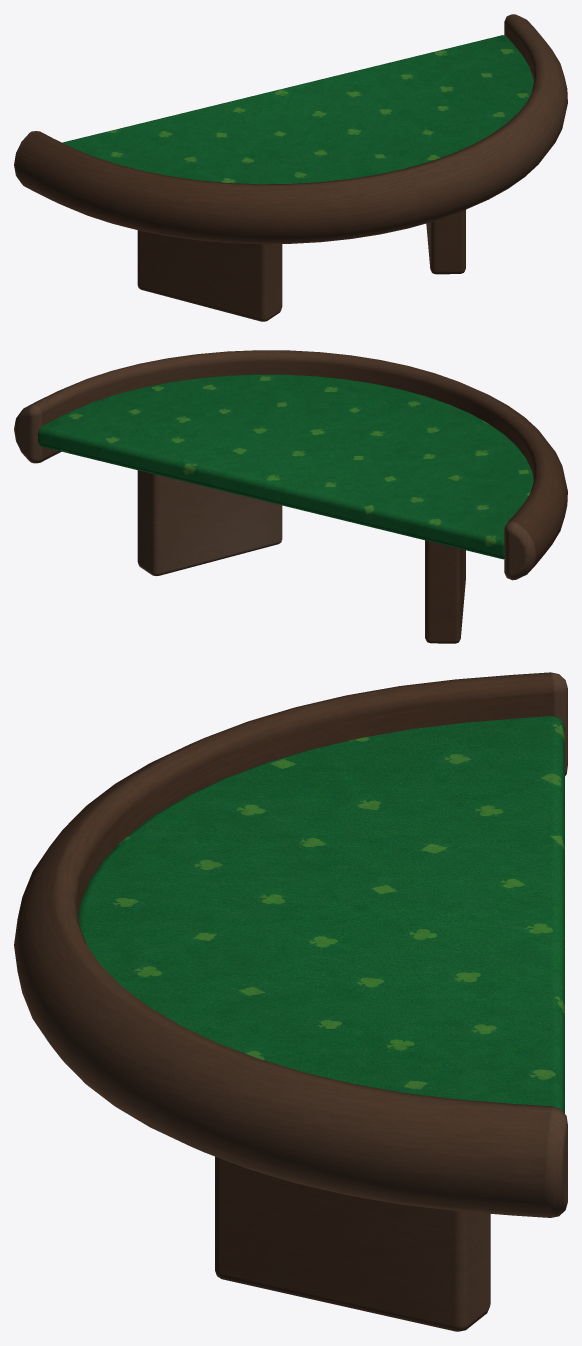
Rendered from SM_Game_BlackGreg_Table.fbx.
The picture shows the model from 3 angles, top to bottom: view 1: azimuth 30°, elevation 25°; view 2: azimuth 150°, elevation 25°; view 3: azimuth 270°, elevation 25°; orthographic projection. The views are drawn at different scales.
Visible parts, largest first — view 1: SM_Game_BlackGreg_Table; view 2: SM_Game_BlackGreg_Table; view 3: SM_Game_BlackGreg_Table.
Boxes of the visible parts, x1,y1,x2,y2 form: SM_Game_BlackGreg_Table: (14, 14, 567, 321); SM_Game_BlackGreg_Table: (14, 350, 567, 643); SM_Game_BlackGreg_Table: (14, 672, 567, 1331).
Size of the model in its own units: 356 by 105 by 176.
2 materials, 2 textured.
